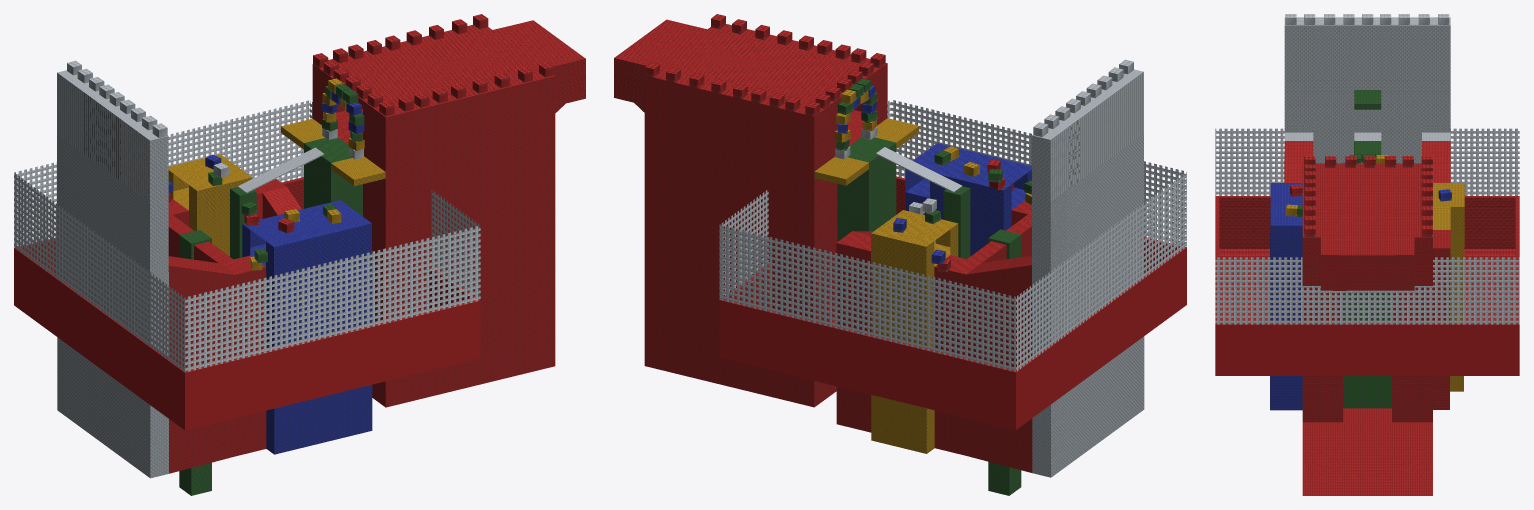
Rendered from map.obj.
3 views of the same model, side by side, from view 1: azimuth 30°, elevation 25°; view 2: azimuth 150°, elevation 25°; view 3: azimuth 270°, elevation 25° (orthographic). The views are drawn at different scales.
Parts seen in each view (by area): view 1: Plane; view 2: Plane; view 3: Plane.
Boxes of the visible parts, bbox=[...] form: Plane: bbox=[14, 14, 585, 495]; Plane: bbox=[614, 14, 1186, 495]; Plane: bbox=[1215, 14, 1519, 495].
Bounding box in the file's own units: 49.62 × 42.54 × 31.88.
11 materials, 11 textured.
